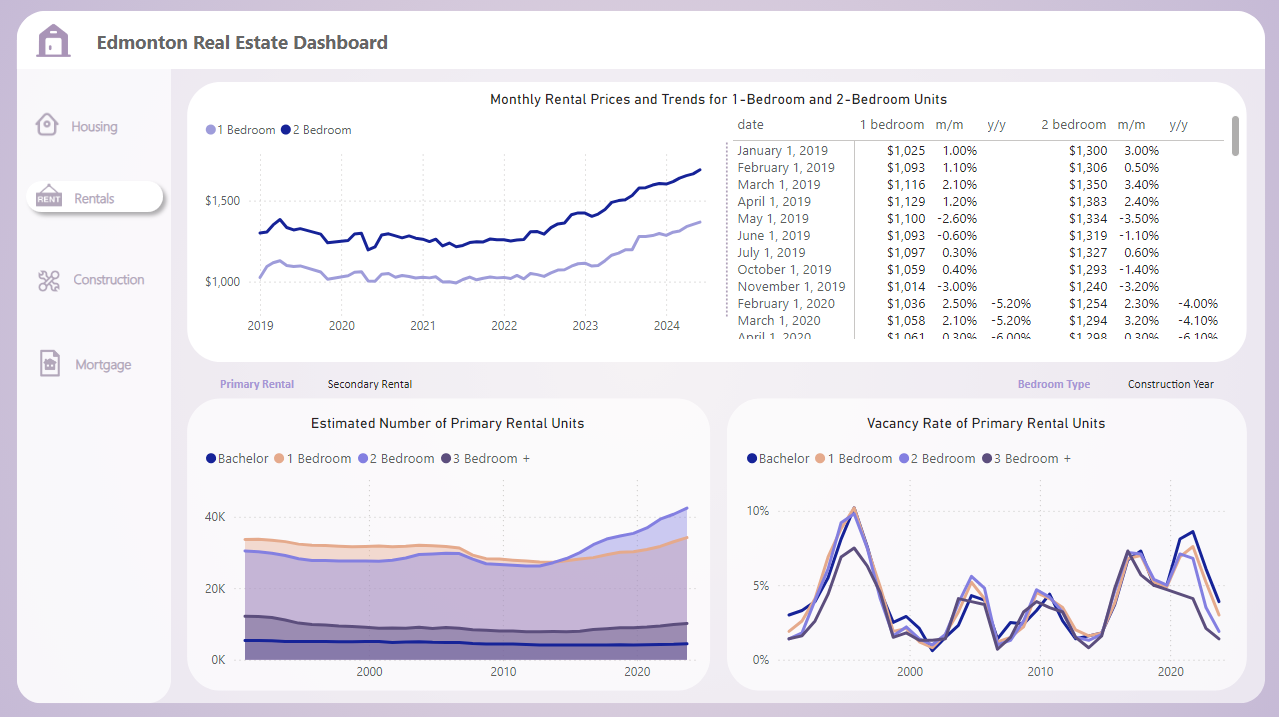

Layout of this report page (visuals, bound fields, positions):
{"tool":"powerbi","page":{"name":"Rental Overview","canvas":[1280,720],"ordinal":1},"visuals":[{"type":"lineChart","fields":{"Y":["Avg(CPI_rent_accommodations.1 bedroom )","Avg(CPI_rent_accommodations.2 bedroom)"],"Category":["CPI_rent_accommodations.date.Variation.Date Hierarchy.Year"]},"box":[200,110.9,518.2,233.6],"z":0},{"type":"areaChart","title":"primary rental number by bedroom type","fields":{"Category":["primary_rental_number_by_bedroom_type.Date"],"Y":["Sum(primary_rental_number_by_bedroom_type.Bachelor)","Sum(primary_rental_number_by_bedroom_type.1 Bedroom)","Sum(primary_rental_number_by_bedroom_type.2 Bedroom)","Sum(primary_rental_number_by_bedroom_type.3 Bedroom +)"]},"box":[200,439.1,505.5,251.8],"z":1000},{"type":"lineChart","title":"primary vacancy rate by bedroom type","fields":{"Category":["primary_rental_vacancy_rate_by_bedroom_type.Date"],"Y":["Sum(primary_rental_vacancy_rate_by_bedroom_type.Bachelor)","Sum(primary_rental_vacancy_rate_by_bedroom_type.1 Bedroom)","Sum(primary_rental_vacancy_rate_by_bedroom_type.2 Bedroom)","Sum(primary_rental_vacancy_rate_by_bedroom_type.3 Bedroom +)"]},"box":[740.9,439.1,496.4,251.8],"z":3000},{"type":"advancedSlicerVisual","fields":{"Values":["SwitchTable.Rental Option"]},"box":[200,366,229,34],"z":7000},{"type":"advancedSlicerVisual","fields":{"Values":["SwitchPrimRentalTable.Primary Rental Option"]},"box":[995,366,237,34],"z":8000},{"type":"actionButton","title":"Bedroom Type Button","box":[1003,369,102,32],"z":9000},{"type":"actionButton","title":"Construction Year Button","box":[1123,370,96,31],"z":10000},{"type":"actionButton","title":"Primary Rental Button","box":[207,372,94,28],"z":11000},{"type":"actionButton","title":"Secondary Rental Button","box":[316,372,113,27],"z":12000},{"type":"pivotTable","fields":{"Rows":["CPI_rent_accommodations.date.Variation.Date Hierarchy.Year"],"Values":["Avg(CPI_rent_accommodations.1 bedroom )","Sum(CPI_rent_accommodations.m/m)","Sum(CPI_rent_accommodations.y/y)","Avg(CPI_rent_accommodations.2 bedroom)","Sum(CPI_rent_accommodations.m/m_1)","Sum(CPI_rent_accommodations.y/y_2)"]},"box":[728.2,110.9,517.3,233.6],"z":13000},{"type":"card","fields":{"Values":["Key Measures.RentalUnitTitle"]},"box":[200,403.6,495.5,40.9],"z":14000},{"type":"card","fields":{"Values":["Min(Key Measures.VacancyRateTitle)"]},"box":[740.9,403.6,490,40.9],"z":15000},{"type":"card","fields":{"Values":["Key Measures.RentTitle"]},"box":[200,80.9,1037.3,40],"z":16000},{"type":"image","box":[0,16.4,108.2,49.1],"z":17000},{"type":"shape","box":[16.7,172.5,155,49.2],"z":17500},{"type":"image","box":[28.2,95.5,38.2,60],"z":18000},{"type":"image","box":[32.7,265.5,32.7,33.6],"z":19000},{"type":"image","box":[30.9,169.1,36.4,53.6],"z":20000},{"type":"image","box":[27.3,323.6,45.5,80],"z":21000},{"type":"textbox","box":[67.3,112.7,89.1,32.7],"z":22000},{"type":"textbox","box":[70,185.5,90,33.6],"z":23000},{"type":"textbox","box":[69.1,266.4,102.7,32.7],"z":24000},{"type":"textbox","box":[70.9,350.9,90,33.6],"z":25000},{"type":"actionButton","box":[27.3,105.5,129.1,40],"z":26000},{"type":"actionButton","box":[27.5,179.2,129.2,40],"z":27000},{"type":"actionButton","box":[27.3,259.1,129.1,40],"z":28000},{"type":"actionButton","box":[27.3,343.6,129.1,40],"z":29000},{"type":"textbox","box":[91.8,24.5,356.4,40.9],"z":31000}]}

Visuals, with their boxes in screenshot pixels (x1, y1, x2, y2), scaled from the page's 1280x720 canvas onto the 1279x718 screenshot:
lineChart - Avg(CPI_rent_accommodations.1 bedroom ) x Avg(CPI_rent_accommodations.2 bedroom): (x1=200, y1=111, x2=718, y2=344)
"primary rental number by bedroom type" areaChart: (x1=200, y1=438, x2=705, y2=689)
"primary vacancy rate by bedroom type" lineChart: (x1=740, y1=438, x2=1236, y2=689)
advancedSlicerVisual - SwitchTable.Rental Option: (x1=200, y1=365, x2=429, y2=399)
advancedSlicerVisual - SwitchPrimRentalTable.Primary Rental Option: (x1=994, y1=365, x2=1231, y2=399)
"Bedroom Type Button" actionButton: (x1=1002, y1=368, x2=1104, y2=400)
"Construction Year Button" actionButton: (x1=1122, y1=369, x2=1218, y2=400)
"Primary Rental Button" actionButton: (x1=207, y1=371, x2=301, y2=399)
"Secondary Rental Button" actionButton: (x1=316, y1=371, x2=429, y2=398)
pivotTable - CPI_rent_accommodations.date.Variation.Date Hierarchy.Year x Avg(CPI_rent_accommodations.1 bedroom ): (x1=728, y1=111, x2=1245, y2=344)
card - Key Measures.RentalUnitTitle: (x1=200, y1=402, x2=695, y2=443)
card - Min(Key Measures.VacancyRateTitle): (x1=740, y1=402, x2=1230, y2=443)
card - Key Measures.RentTitle: (x1=200, y1=81, x2=1236, y2=121)
image: (x1=0, y1=16, x2=108, y2=65)
shape: (x1=17, y1=172, x2=172, y2=221)
image: (x1=28, y1=95, x2=66, y2=155)
image: (x1=33, y1=265, x2=65, y2=298)
image: (x1=31, y1=169, x2=67, y2=222)
image: (x1=27, y1=323, x2=73, y2=402)
textbox: (x1=67, y1=112, x2=156, y2=145)
textbox: (x1=70, y1=185, x2=160, y2=218)
textbox: (x1=69, y1=266, x2=172, y2=298)
textbox: (x1=71, y1=350, x2=161, y2=383)
actionButton: (x1=27, y1=105, x2=156, y2=145)
actionButton: (x1=27, y1=179, x2=157, y2=219)
actionButton: (x1=27, y1=258, x2=156, y2=298)
actionButton: (x1=27, y1=343, x2=156, y2=383)
textbox: (x1=92, y1=24, x2=448, y2=65)
